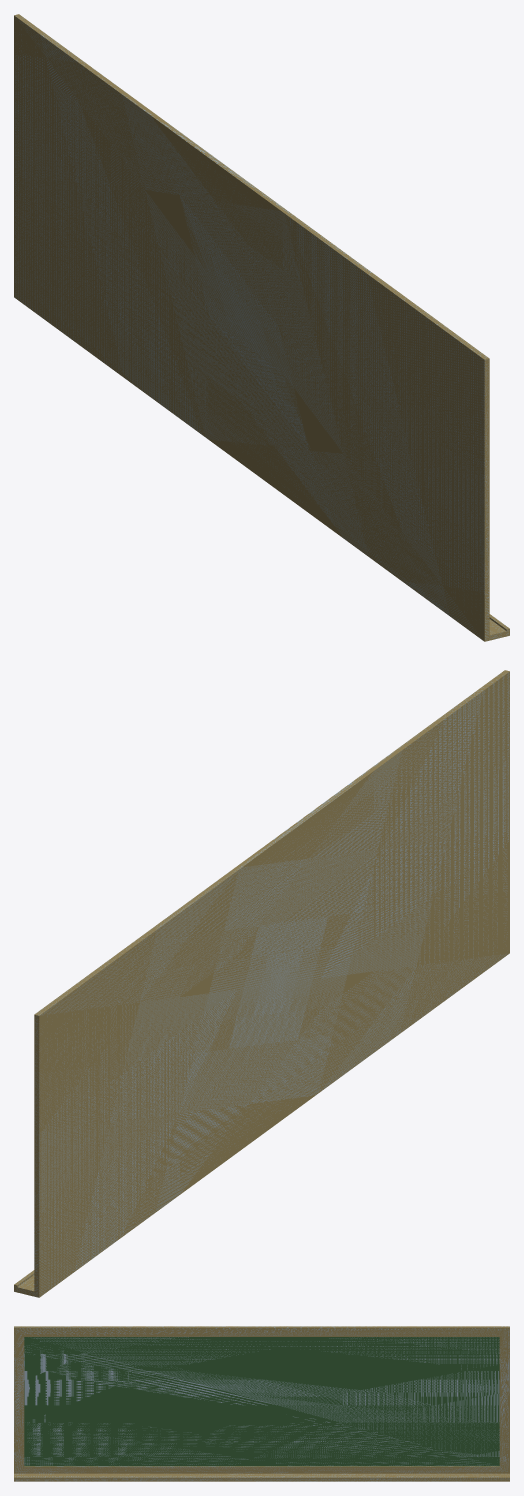
The model's file is blackboard.dae.
The picture shows the model from 3 angles, top to bottom: view 1: azimuth 30°, elevation 25°; view 2: azimuth 150°, elevation 25°; view 3: azimuth 270°, elevation 25°; orthographic projection. The views are drawn at different scales.
Visible parts, largest first — view 1: SketchUp; view 2: SketchUp; view 3: SketchUp (×3).
Part boxes in pixels (x1,y1,x2,y2): SketchUp: [14, 14, 509, 641]; SketchUp: [14, 670, 509, 1297]; SketchUp (×3): [14, 1326, 509, 1481].
Size of the model in its own units: 5.91 by 191 by 62.99.
